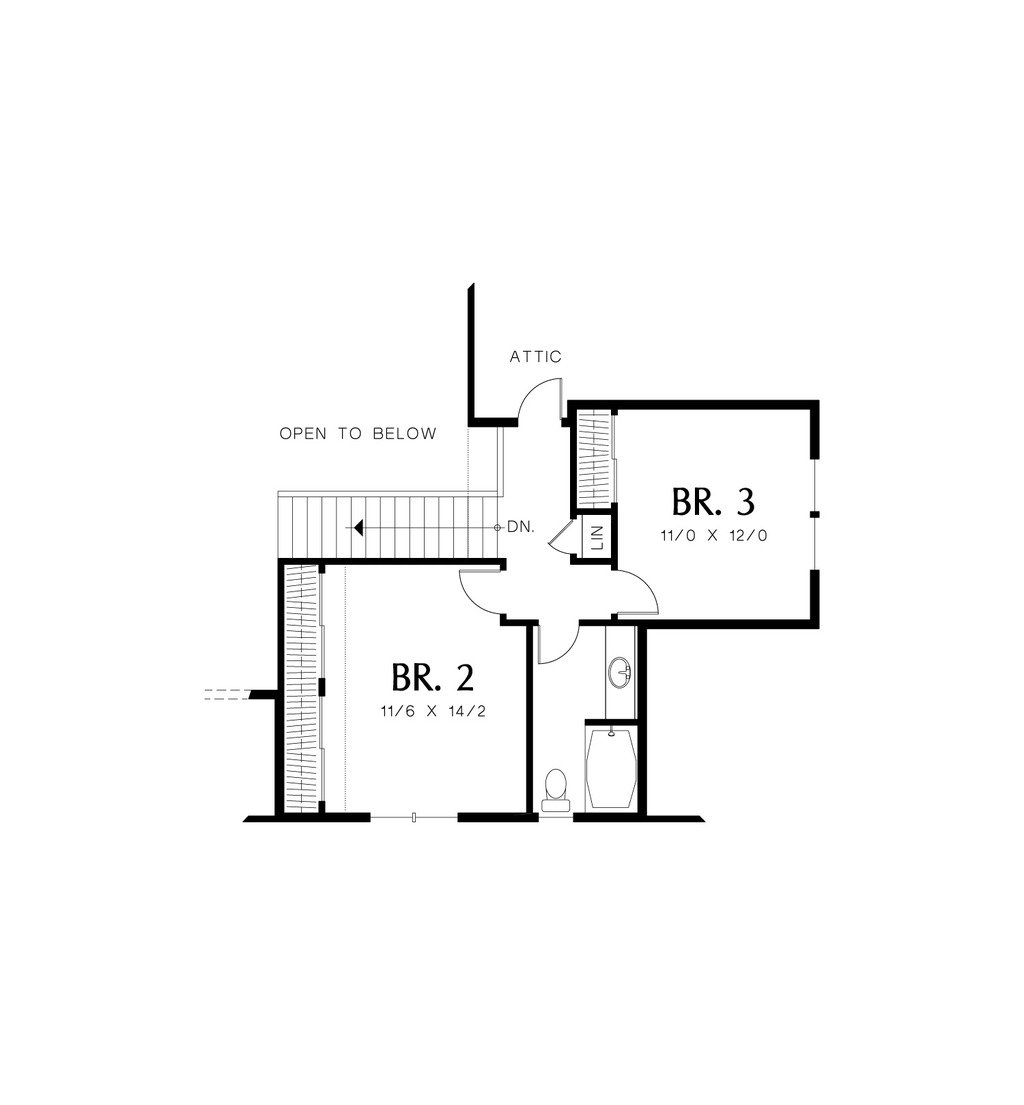door: (599, 562, 678, 619), (513, 370, 571, 429), (447, 562, 514, 613), (533, 610, 588, 669), (547, 513, 592, 557)
large_sink: (538, 767, 585, 810)
small_sink: (604, 632, 638, 710)
stairs: (269, 477, 506, 558)
tub: (588, 720, 640, 815)
window: (806, 462, 828, 563), (366, 808, 461, 825)
